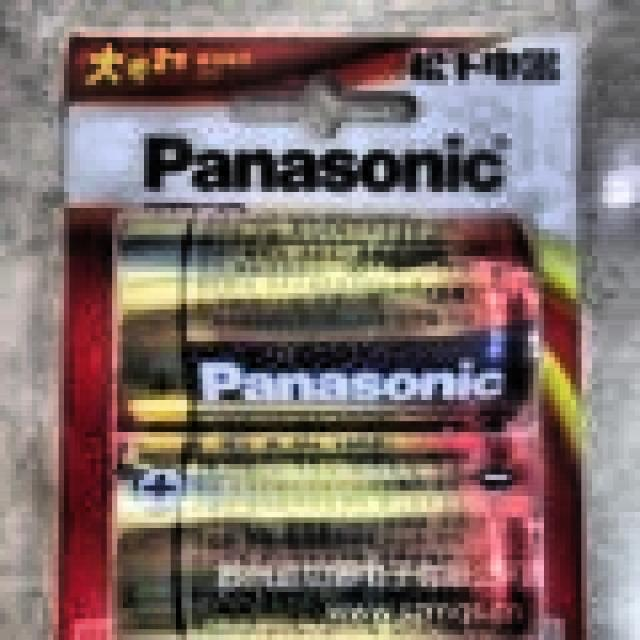Non-Valuable Waste - Batteries: (118, 210, 539, 639)
